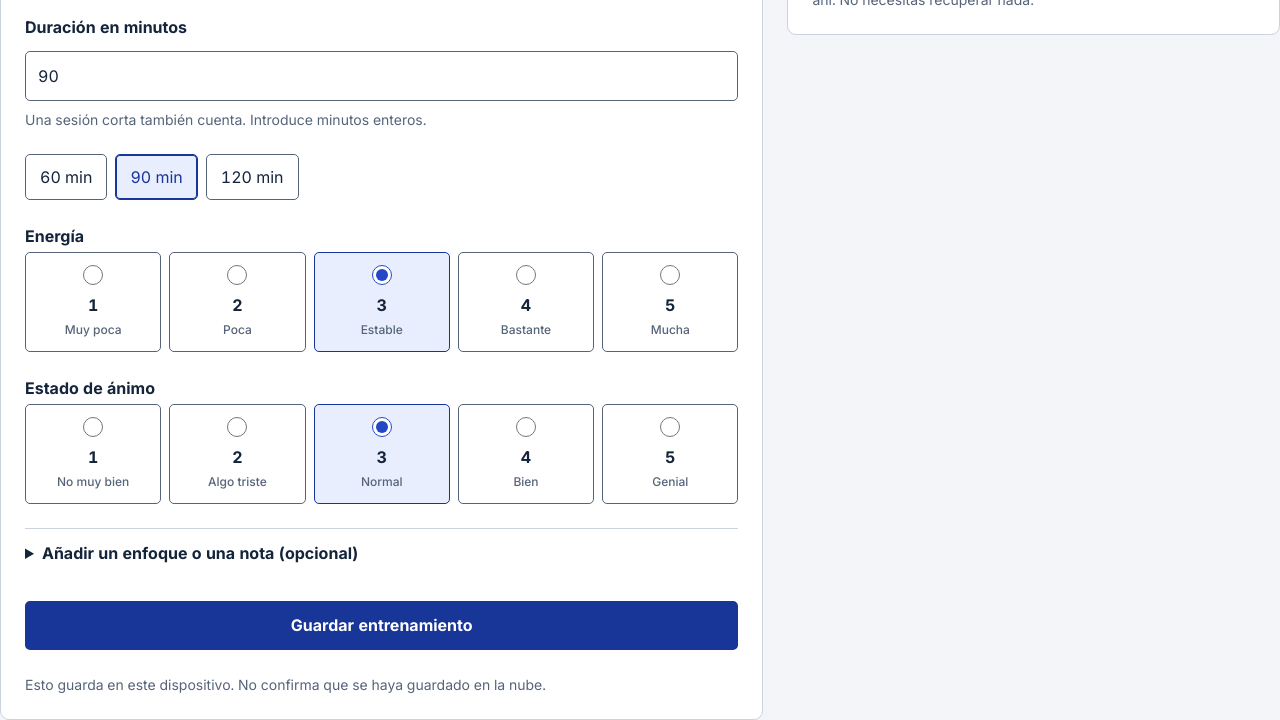
Test: real training journey › shows translated fields and completion in es
(page scrolled)
Expected: the number field labelled "Duración en minutos" is shown, [25,51,738,101]
What coordinates should you click on to do the following:
click the button "Guardar entrenamiento"
I would click on:
 (382, 625)
Its box is [25,601,738,650].
(page scrolled)
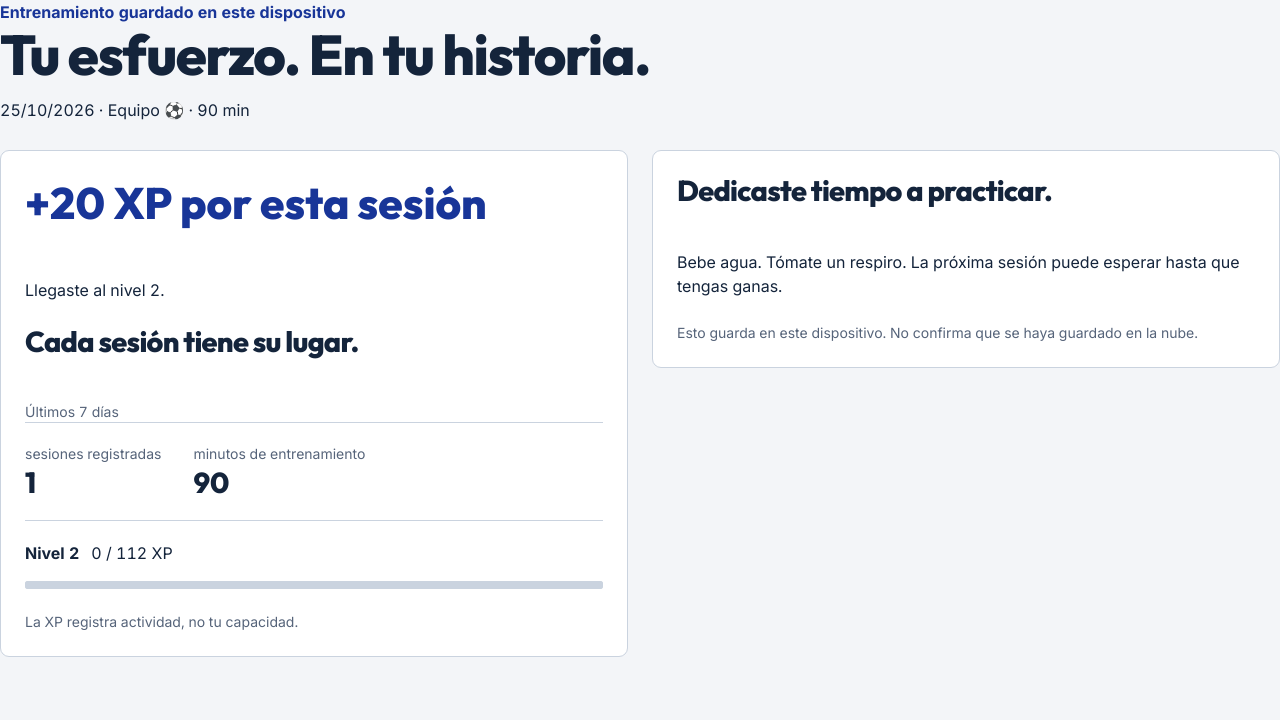
Result: the text "Entrenamiento guardado en este dispositivo" is shown at [0,2,346,22]
Result: the heading "Tu esfuerzo. En tu historia." is shown at [0,19,650,90]
